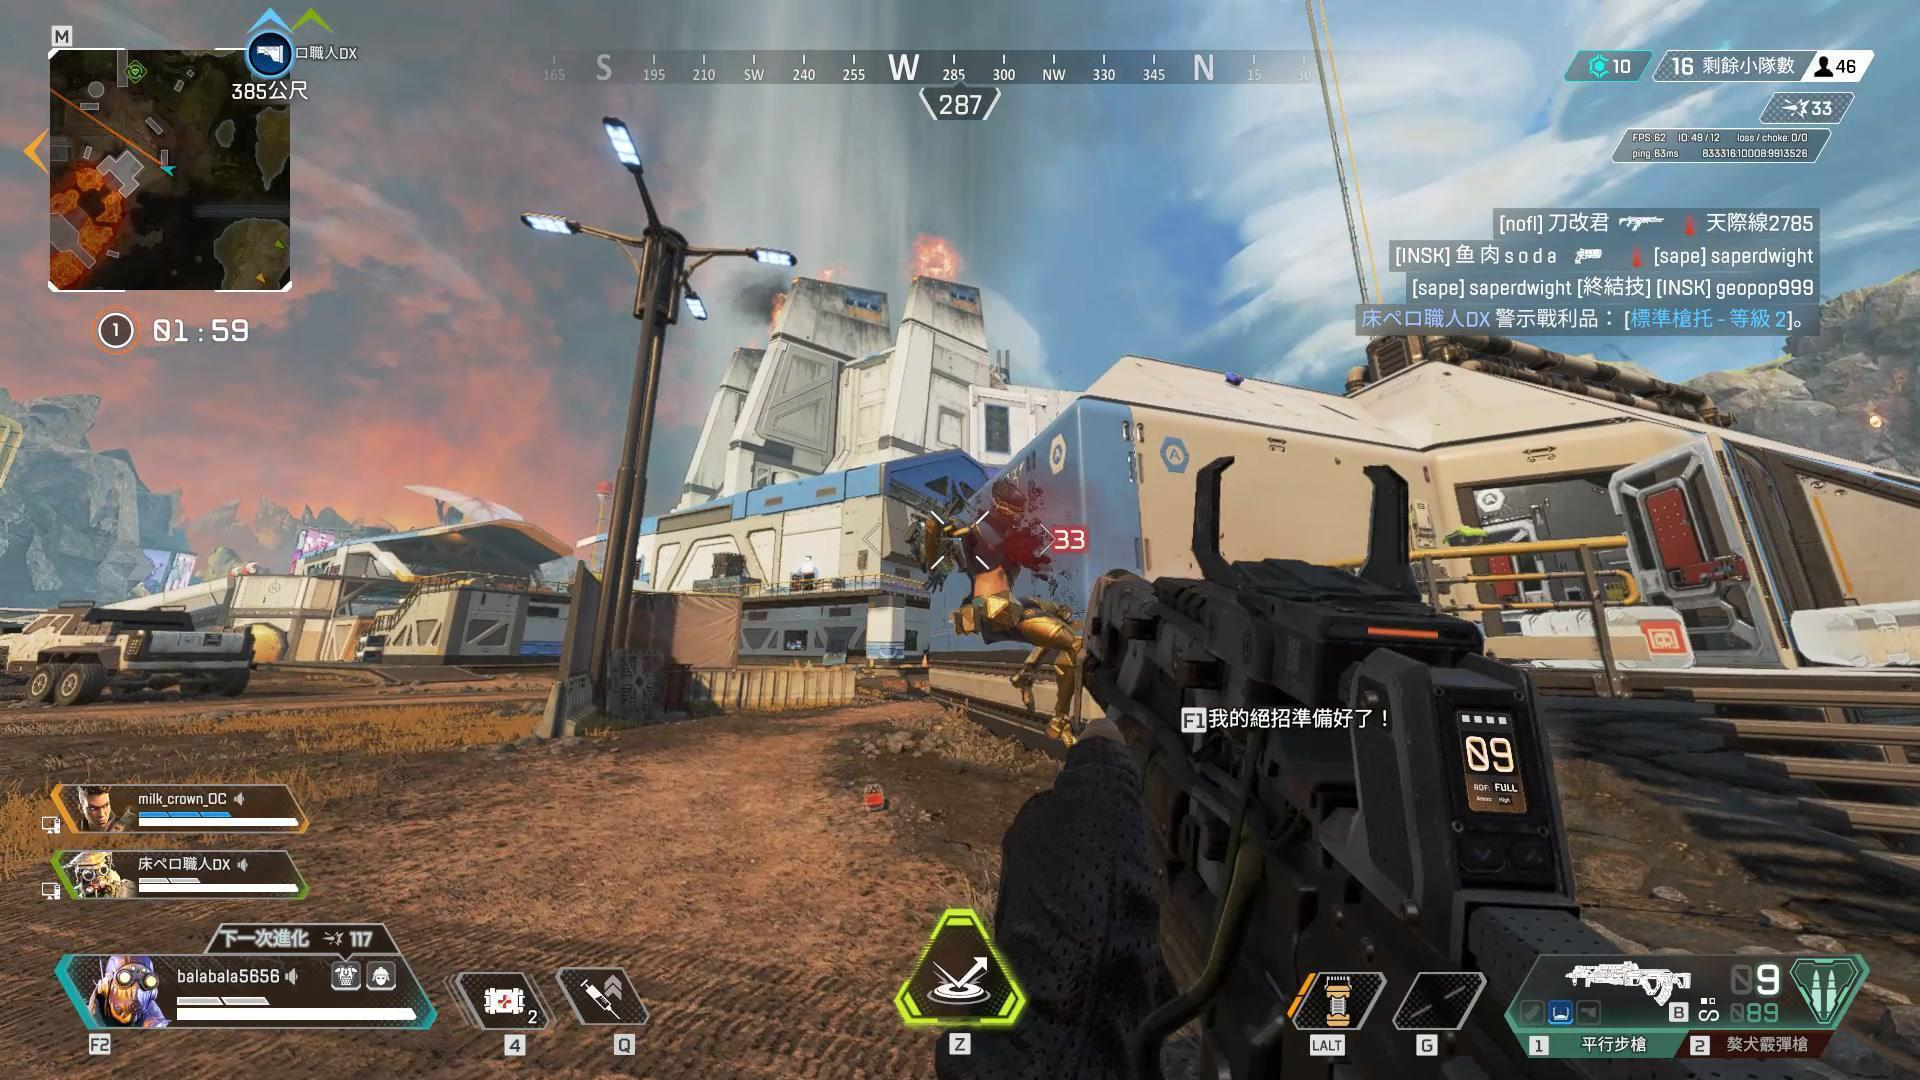avatar: (949, 479, 1084, 753)
